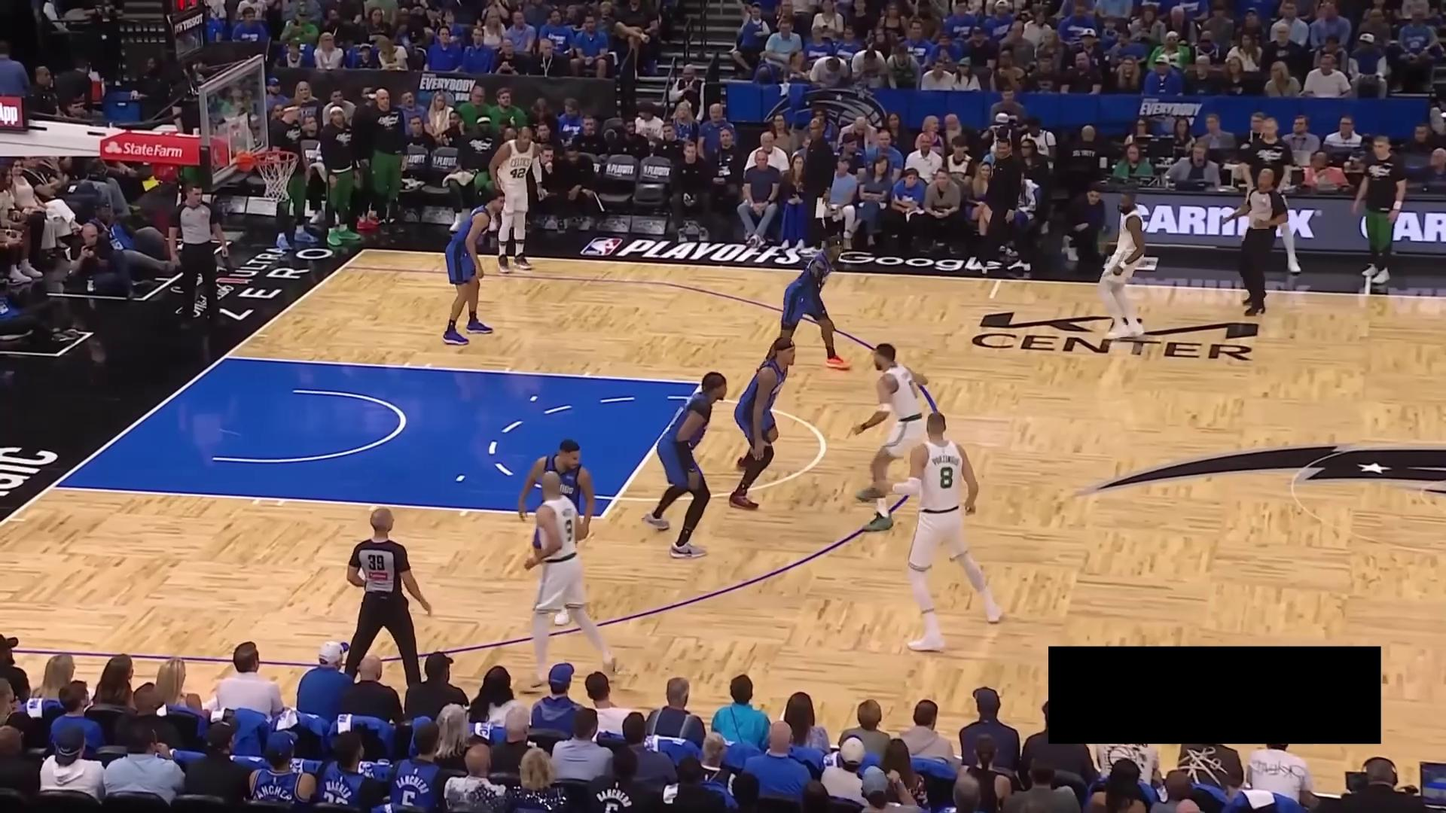number: (937, 465, 957, 492), (562, 516, 575, 545), (510, 168, 526, 179)
player: (877, 411, 1007, 651), (517, 465, 621, 697), (644, 369, 728, 564), (517, 436, 596, 632), (727, 331, 802, 514), (441, 184, 509, 350), (780, 230, 856, 377), (1095, 182, 1154, 342), (487, 119, 547, 271)
player-in-possession: (845, 343, 934, 536)
referee: (339, 501, 433, 687), (1214, 161, 1292, 319), (165, 180, 230, 321)
rim: (254, 148, 297, 166)
